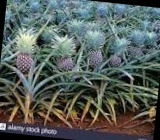Pineapple: (16, 30, 38, 71)
